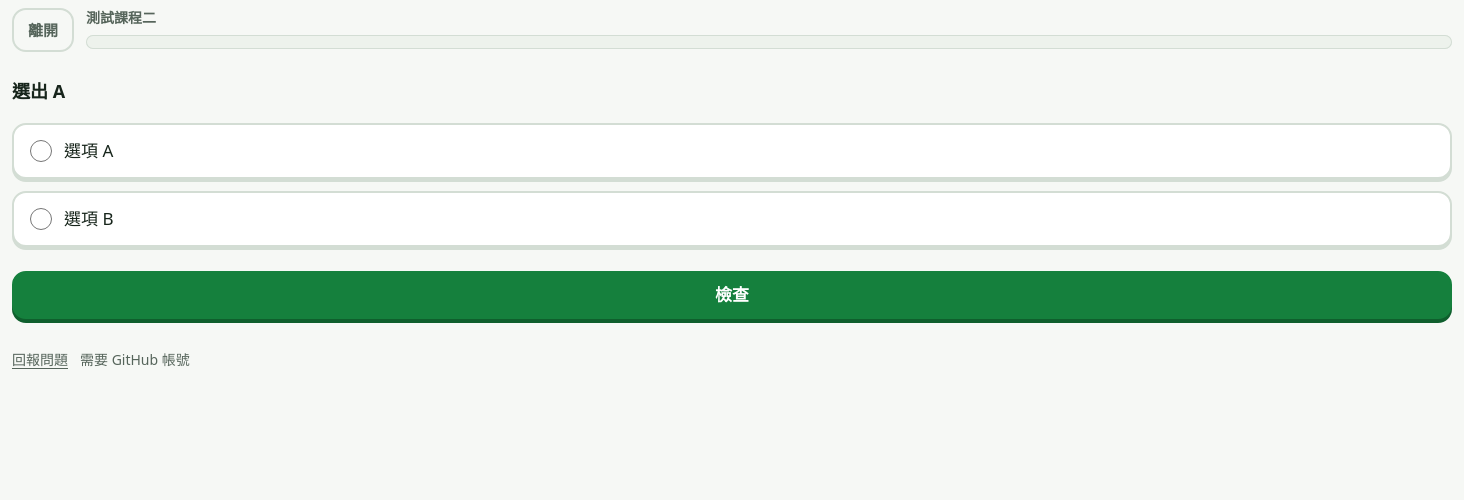
Test: StrictMode 底下（effect 會多跑一次）也只回報一次
The image size is (1464, 500).
Click the radio button labelled "選項 A" at (41,151), box 30,140 -> 52,162
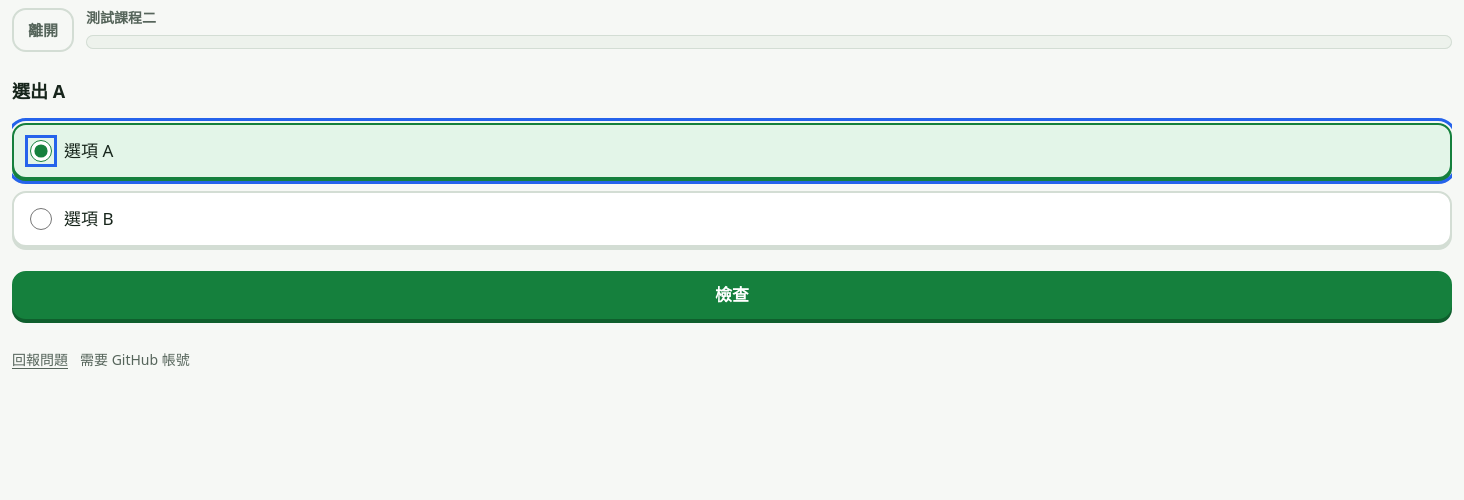
Click the button "檢查" at (732,295), box 12,271 -> 1452,319
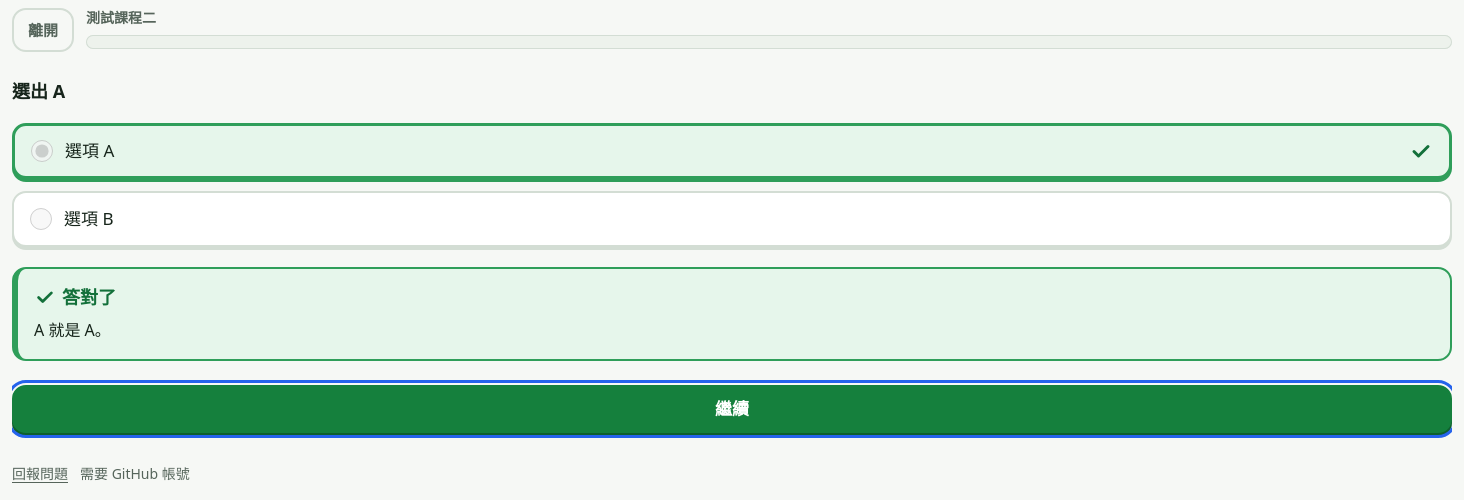
Click the button "繼續" at (732,409), box 12,385 -> 1452,433
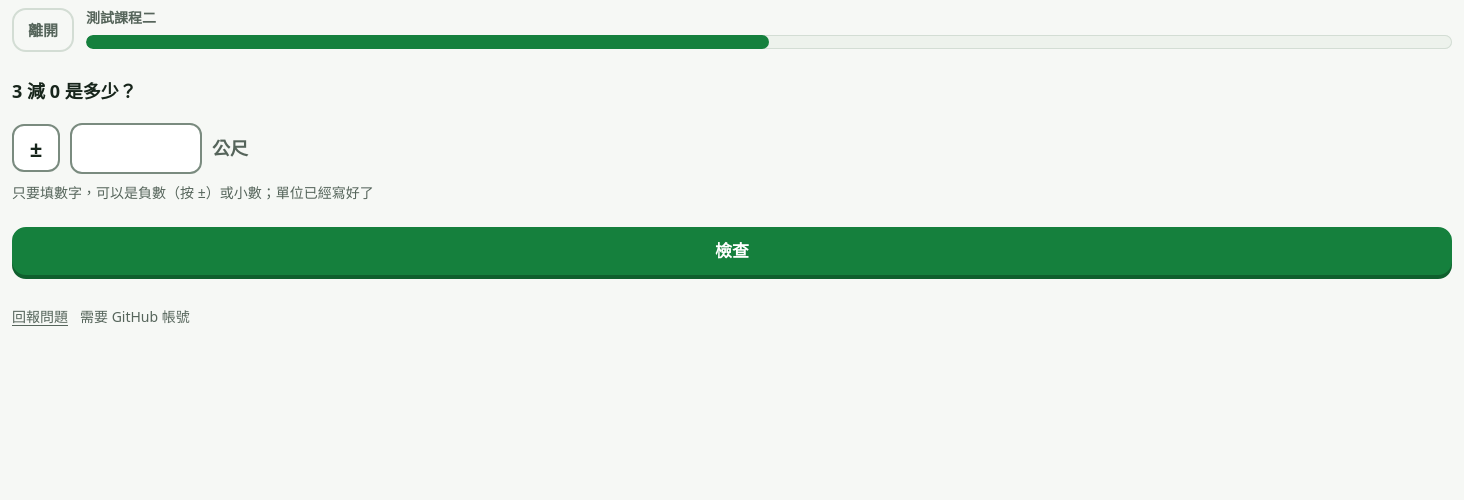
Type "3" into the field labelled "3 減 0 是多少？" at (136,148), box 70,123 -> 202,174
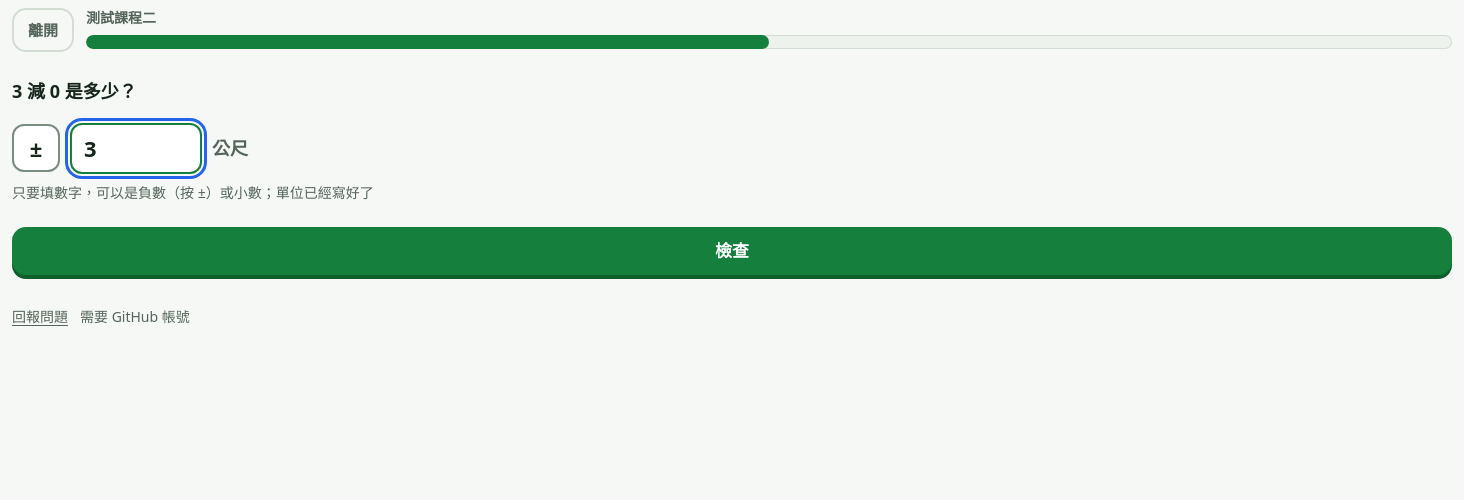
Click the button "檢查" at (732,251), box 12,227 -> 1452,275
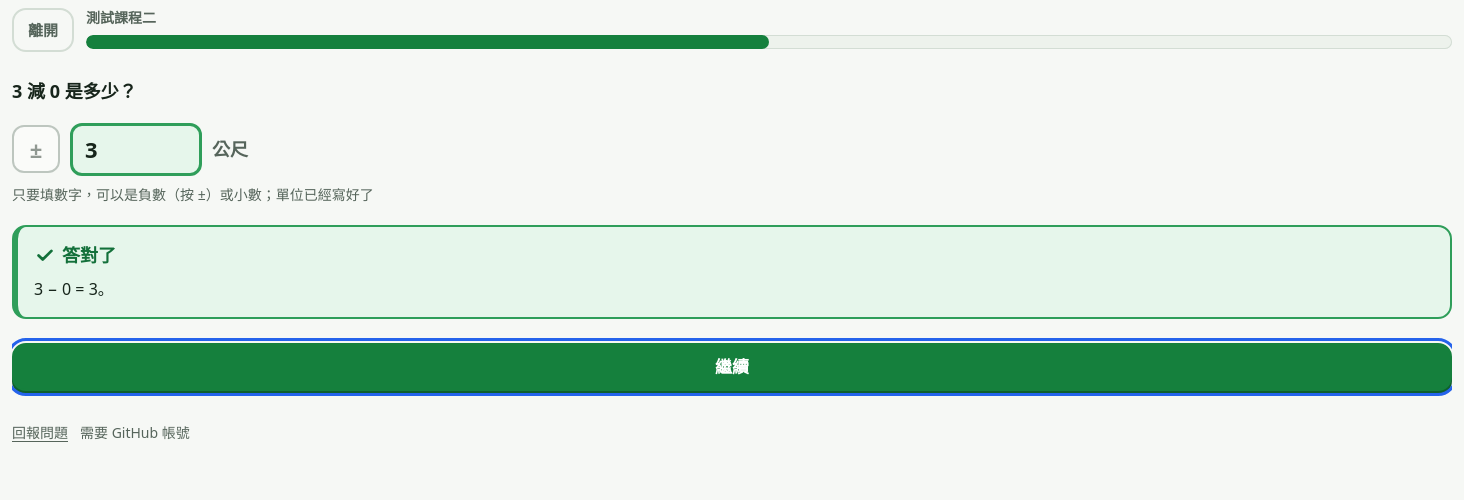
Click the button "繼續" at (732,367), box 12,343 -> 1452,391
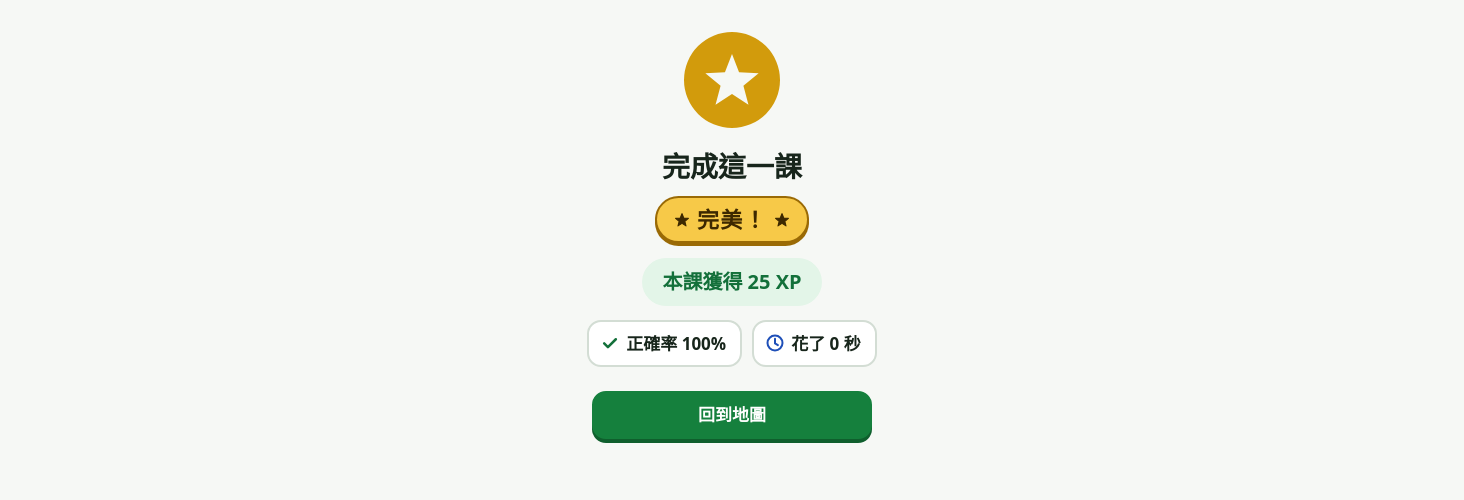
Result: the heading "完成這一課" is shown at 662,147 -> 802,185
